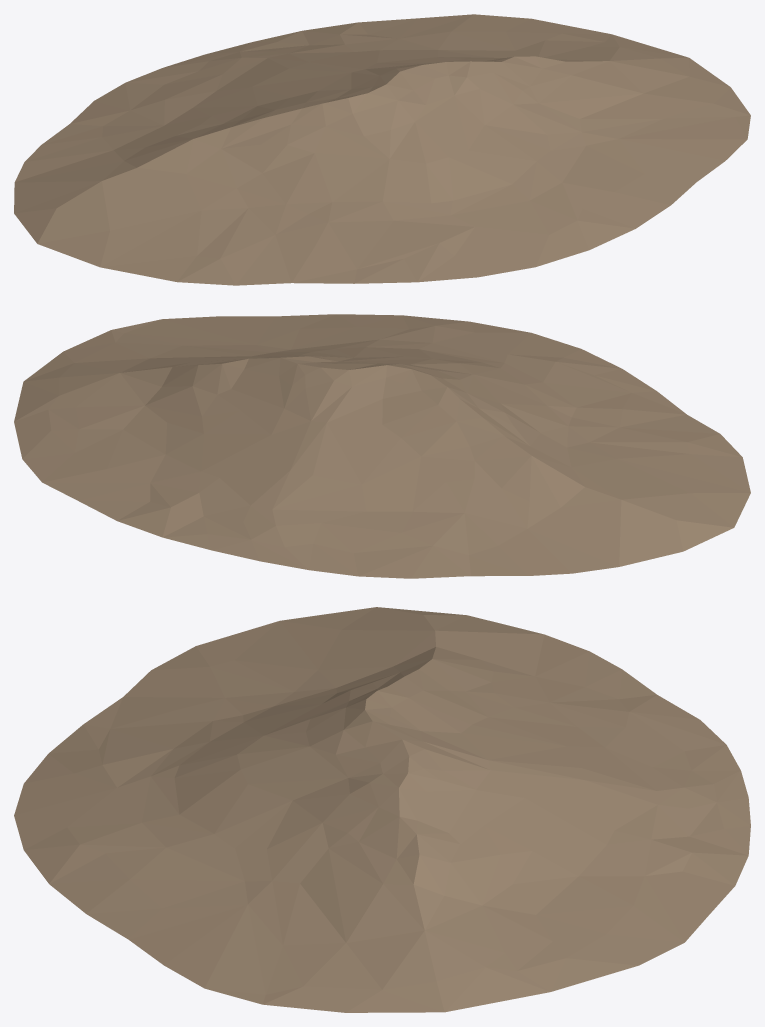
File: SM_Env_SandDunes_01.fbx
3 views of the same model, one above another, from view 1: azimuth 30°, elevation 25°; view 2: azimuth 150°, elevation 25°; view 3: azimuth 270°, elevation 25° (orthographic). The views are drawn at different scales.
Visible parts, largest first — view 1: SM_Env_SandDunes_01; view 2: SM_Env_SandDunes_01; view 3: SM_Env_SandDunes_01.
Boxes of the visible parts, box(x1,y1,x2,y2) form: SM_Env_SandDunes_01: box(14, 14, 750, 285); SM_Env_SandDunes_01: box(14, 314, 750, 578); SM_Env_SandDunes_01: box(14, 607, 750, 1012).
Bounding box in the file's own units: 7256 × 774 × 5567.
